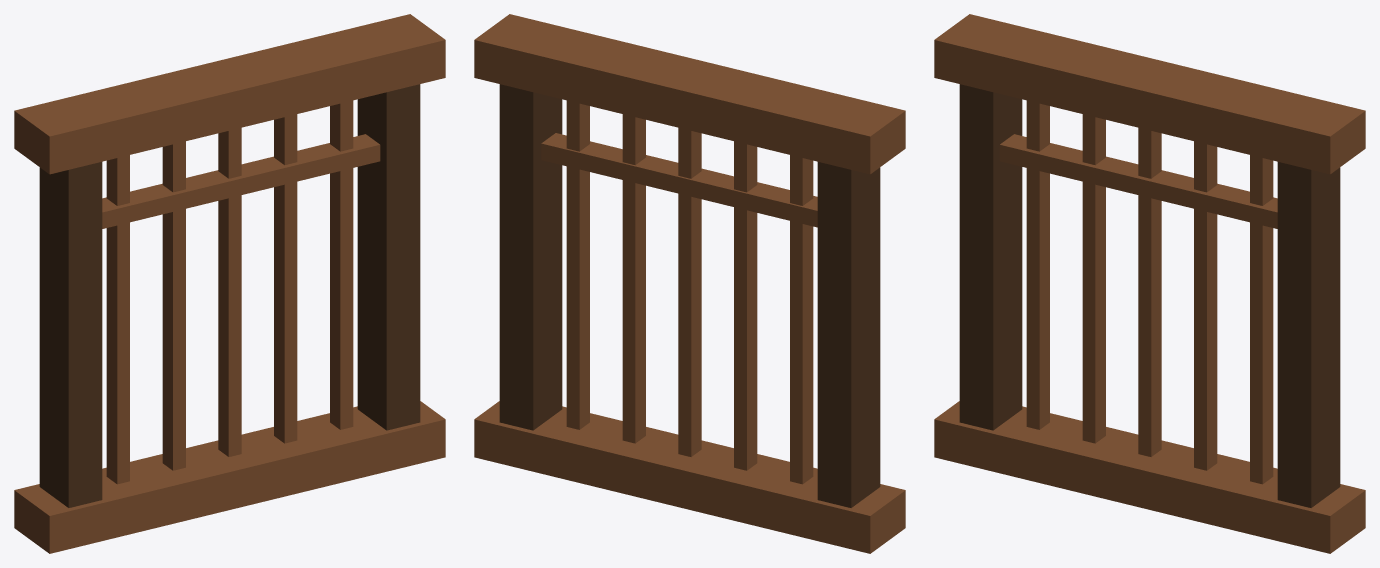
The model's file is LV_CUA_SO_GO_01.glb.
3 renders of one model, left to right at view 1: azimuth 30°, elevation 25°; view 2: azimuth 150°, elevation 25°; view 3: azimuth 330°, elevation 25°, orthographic.
Parts seen in each view (by area): view 1: LV_CUA_SO_GO_01-surface-825331, LV_CUA_SO_GO_01-surface-50351f; view 2: LV_CUA_SO_GO_01-surface-825331, LV_CUA_SO_GO_01-surface-50351f; view 3: LV_CUA_SO_GO_01-surface-825331, LV_CUA_SO_GO_01-surface-50351f.
Part boxes in pixels (left/top/right/bottom): LV_CUA_SO_GO_01-surface-825331: left=14, top=14, right=445, bottom=553; LV_CUA_SO_GO_01-surface-50351f: left=39, top=84, right=420, bottom=507; LV_CUA_SO_GO_01-surface-825331: left=474, top=14, right=905, bottom=553; LV_CUA_SO_GO_01-surface-50351f: left=499, top=84, right=880, bottom=507; LV_CUA_SO_GO_01-surface-825331: left=934, top=14, right=1365, bottom=553; LV_CUA_SO_GO_01-surface-50351f: left=959, top=84, right=1340, bottom=507.
Size of the model in its own units: 1.42 by 1.43 by 0.22.
